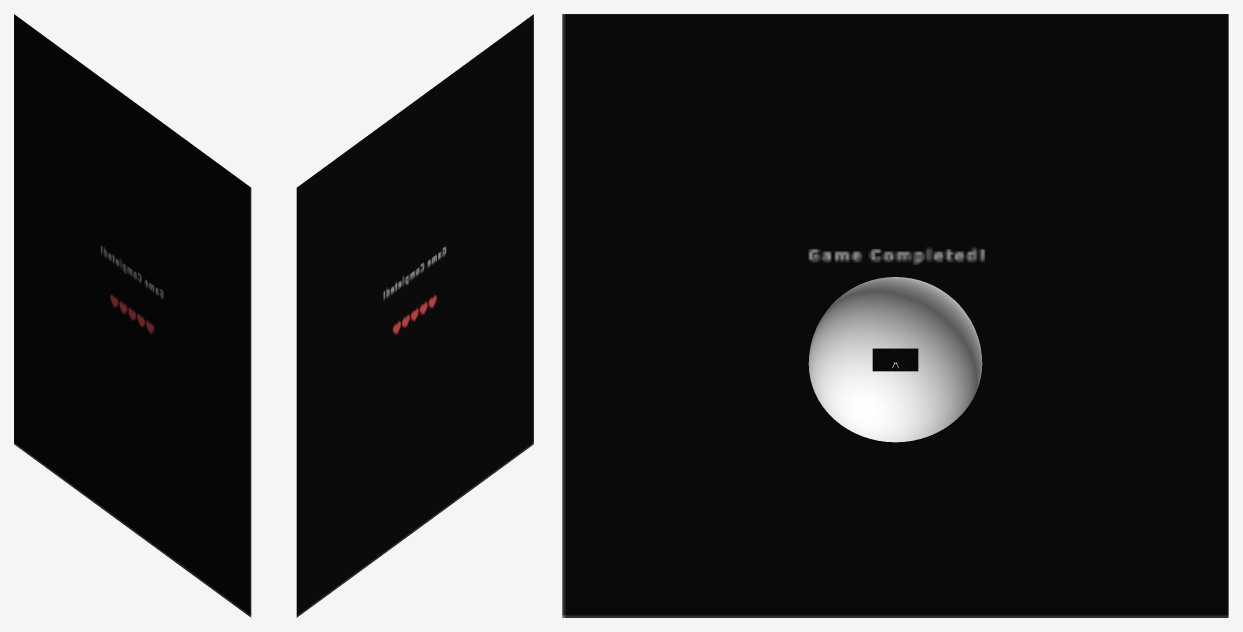
3 views of the same model, side by side, from view 1: azimuth 30°, elevation 25°; view 2: azimuth 150°, elevation 25°; view 3: azimuth 270°, elevation 25° (orthographic). The views are drawn at different scales.
Visible parts, largest first — view 1: Canvas; view 2: Canvas; view 3: Canvas, TunnelingVignette, dip to black.
Boxes of the visible parts, box(x1,y1,x2,y2) form: Canvas: box(14, 14, 251, 617); Canvas: box(296, 14, 533, 617); Canvas: box(562, 14, 1228, 617); TunnelingVignette: box(808, 277, 982, 442); dip to black: box(872, 348, 918, 371).
Size of the model in its own units: 0.9501 by 3.84 by 3.84.
5 materials, 2 textured.
